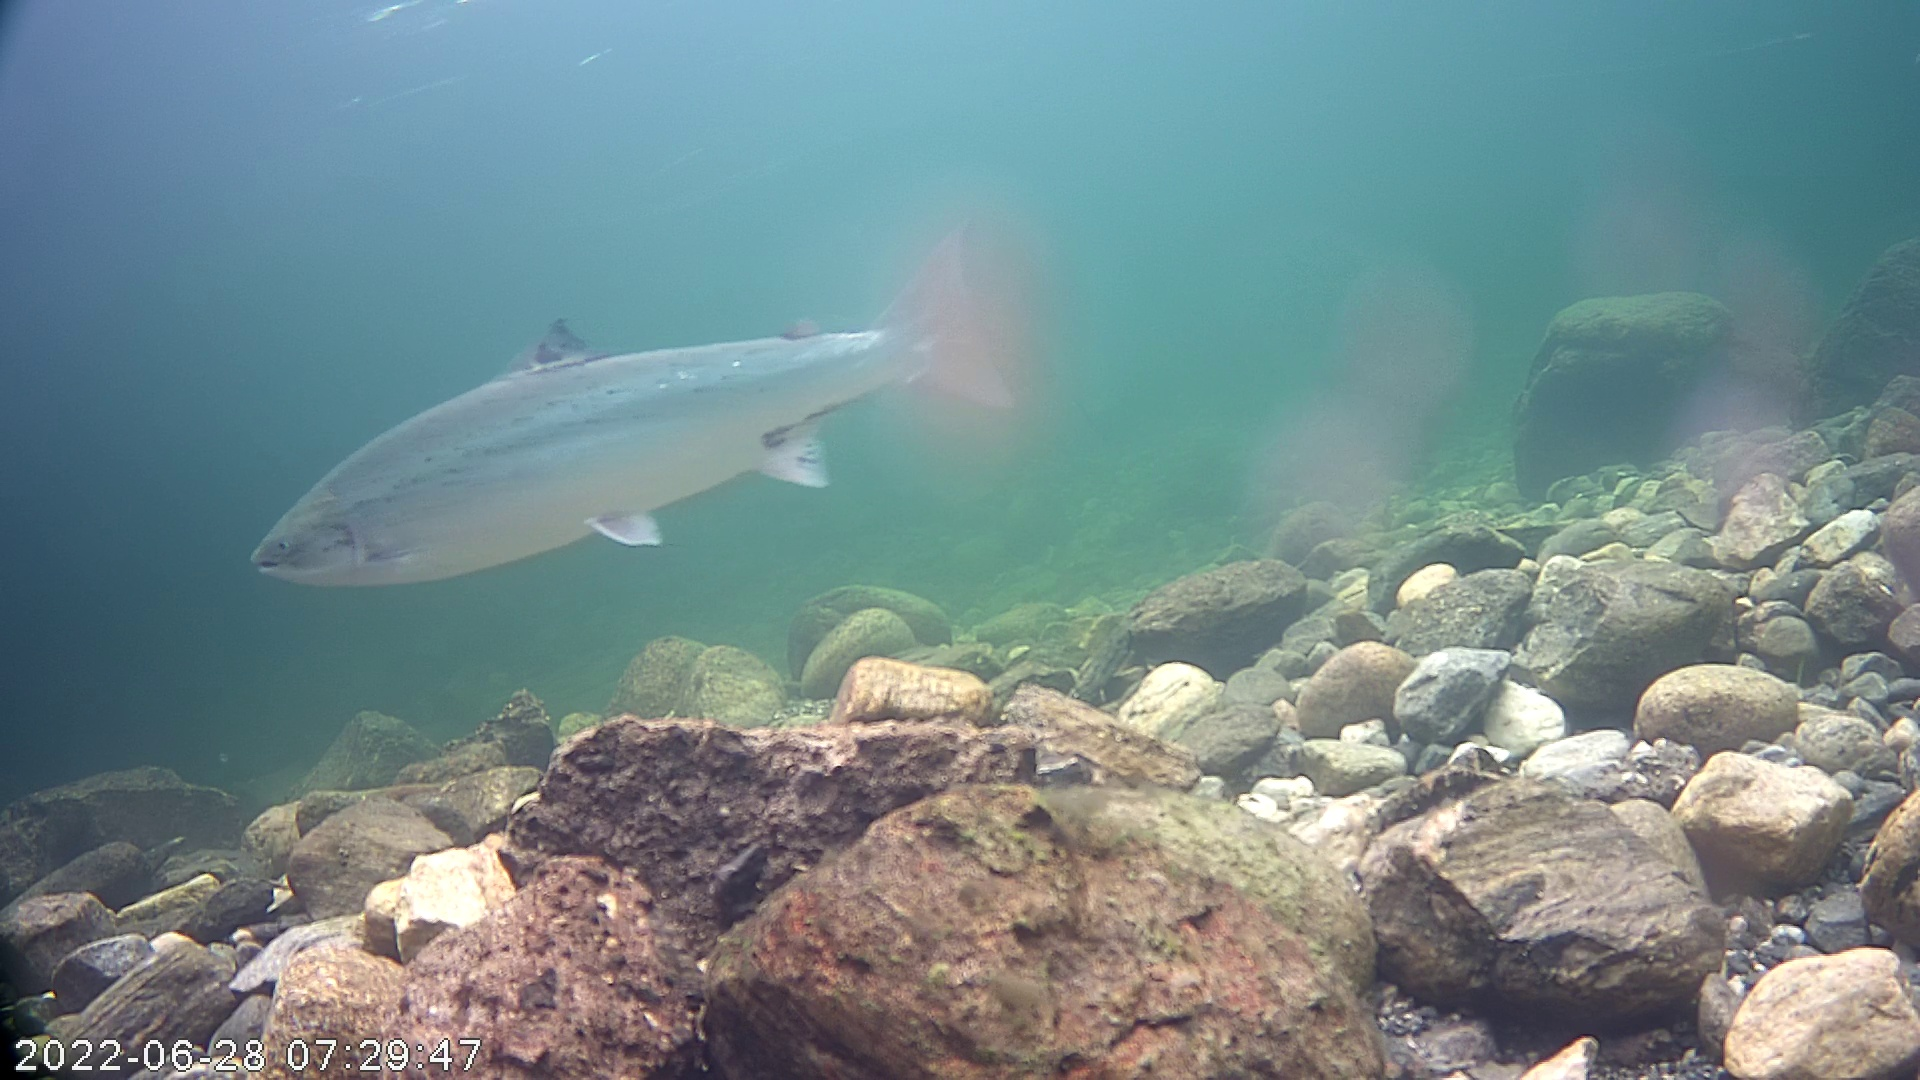salmon: (240, 181, 1048, 632)
